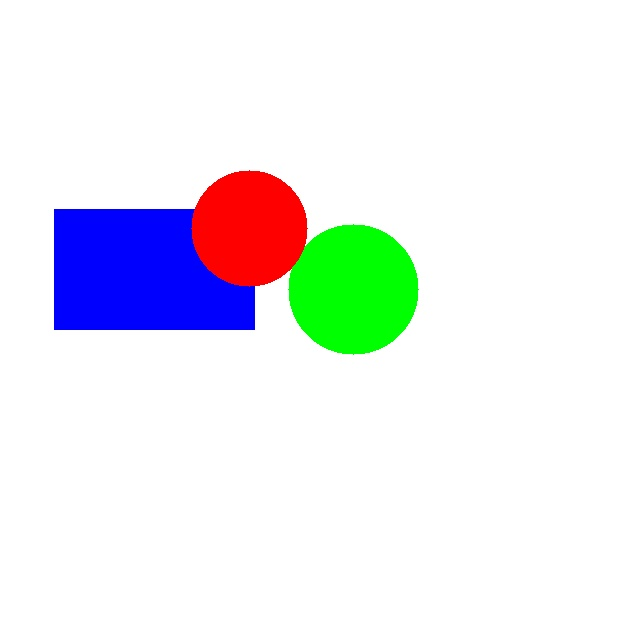cartao: (54, 209, 254, 329)
rosca_externa: (288, 224, 418, 354)
rosca_interna: (191, 170, 307, 286)
